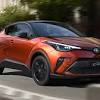Toyota: (1, 20, 100, 78)
